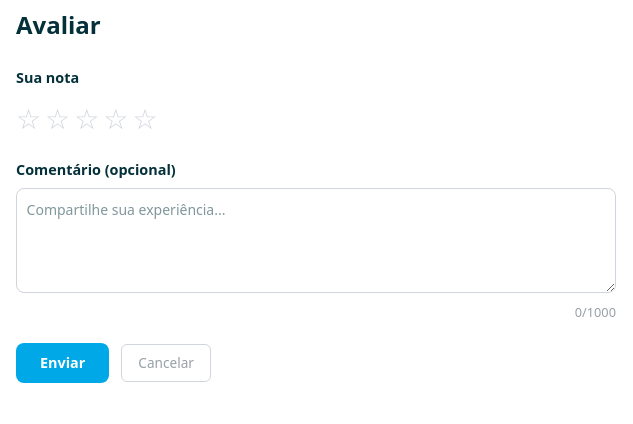
Test: ReviewFormComponent › should show validation error when submitting without selecting a rating
// Submit without selecting rating
Step 1. Click the button with test id "submit-btn" → [63, 363], box 16,343 -> 109,383
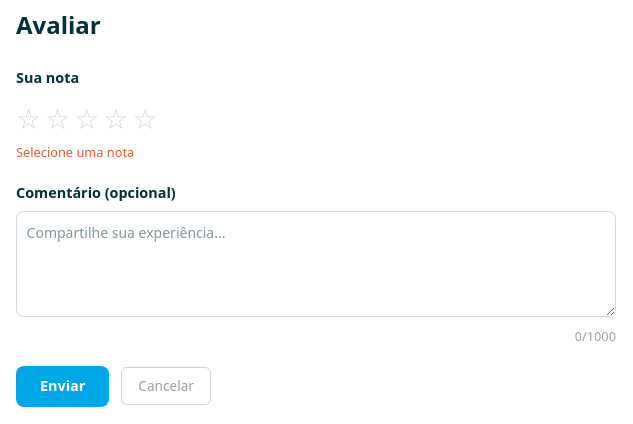
Result: the text with test id "rating-error" reads "Selecione uma nota" at 16,143 -> 134,161
